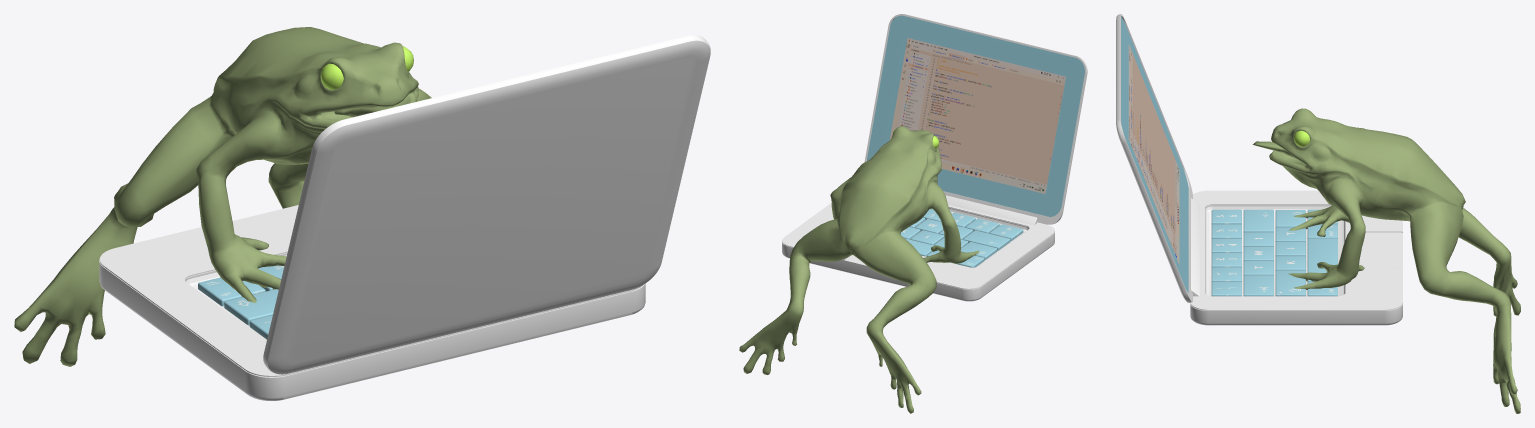
The model's file is ROBET_PROG.gltf.
3 views of the same model, side by side, from view 1: azimuth 30°, elevation 25°; view 2: azimuth 150°, elevation 25°; view 3: azimuth 270°, elevation 25° (orthographic). The views are drawn at different scales.
Parts seen in each view (by area): view 1: MacBook_1, Mesh.001; view 2: MacBook_1, Mesh.001; view 3: MacBook_1, Mesh.001.
Part boxes in pixels (x1,y1,x2,y2): MacBook_1: [99, 35, 710, 400]; Mesh.001: [14, 27, 431, 366]; MacBook_1: [782, 14, 1087, 301]; Mesh.001: [739, 126, 979, 413]; MacBook_1: [1116, 14, 1402, 325]; Mesh.001: [1252, 108, 1520, 413].
Bounding box in the file's own units: 0.666 × 0.7776 × 0.9546.
Materials: 3 (3 with a texture image).
